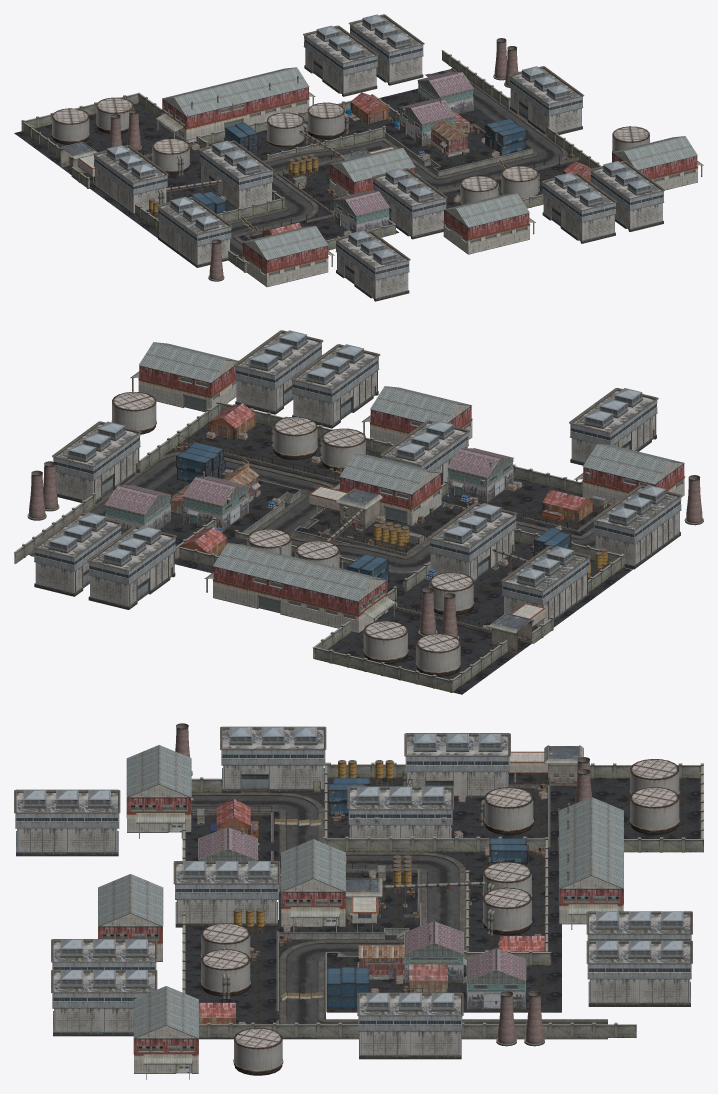
Rendered from Map_v1.gltf.
3 renders of one model, top to bottom at view 1: azimuth 30°, elevation 25°; view 2: azimuth 150°, elevation 25°; view 3: azimuth 270°, elevation 25°, orthographic. The views are drawn at different scales.
Visible parts, largest first — view 1: Hangar_v2_basic, Hangar_v2_basic (1), Hangar_v4 (7), Hangar_v4 (2), Hangar_v4 (8), Hangar_v4 (4), Hangar_v2_basic (3), Hangar_v4 (5), Hangar_v4, Hangar_v4 (6), Hangar_v4 (1), Hangar_v4 (9) (+37 smaller); view 2: Hangar_v2, Hangar_v2_basic (3), Hangar_v4 (2), Hangar_v4 (8), Hangar_v4 (4), Hangar_v2_basic (4), Hangar_v4 (5), Hangar_v4, Hangar_v4 (9), Hangar_v4 (6), Hangar_v4 (3), Hangar_v4 (7) (+44 smaller); view 3: Hangar_v4 (4), Hangar_v4 (7), Hangar_v4 (5), Hangar_v4 (3), Hangar_v2, Hangar_v4 (1), Hangar_v4 (9), Hangar_v4 (6), Hangar_v4, Hangar_v2_basic (4), Hangar_v2_basic (1), Hangar_v3 (+55 smaller).
Boxes of the visible parts, bbox=[...] form: Hangar_v2_basic: bbox=[443, 193, 535, 254]; Hangar_v2_basic (1): bbox=[242, 226, 334, 287]; Hangar_v4 (7): bbox=[334, 230, 410, 301]; Hangar_v4 (2): bbox=[303, 25, 378, 96]; Hangar_v4 (8): bbox=[541, 172, 616, 243]; Hangar_v4 (4): bbox=[508, 66, 584, 134]; Hangar_v2_basic (3): bbox=[156, 82, 247, 143]; Hangar_v4 (5): bbox=[156, 196, 232, 267]; Hangar_v4: bbox=[198, 140, 274, 208]; Hangar_v4 (6): bbox=[93, 145, 168, 214]; Hangar_v4 (1): bbox=[371, 168, 447, 239]; Hangar_v4 (9): bbox=[589, 160, 664, 231]; Hangar_v2: bbox=[309, 453, 441, 528]; Hangar_v2_basic (3): bbox=[285, 560, 396, 633]; Hangar_v4 (2): bbox=[87, 525, 176, 609]; Hangar_v4 (8): bbox=[290, 344, 380, 428]; Hangar_v4 (4): bbox=[52, 421, 141, 503]; Hangar_v2_basic (4): bbox=[130, 342, 238, 412]; Hangar_v4 (5): bbox=[592, 485, 682, 569]; Hangar_v4: bbox=[427, 503, 517, 581]; Hangar_v4 (9): bbox=[233, 330, 323, 414]; Hangar_v4 (6): bbox=[501, 546, 590, 627]; Hangar_v4 (3): bbox=[33, 512, 122, 596]; Hangar_v4 (7): bbox=[569, 388, 658, 465]; Hangar_v4 (4): bbox=[357, 992, 463, 1059]; Hangar_v4 (7): bbox=[14, 789, 120, 856]; Hangar_v4 (5): bbox=[220, 726, 326, 793]; Hangar_v4 (3): bbox=[586, 940, 692, 1006]; Hangar_v2: bbox=[281, 839, 382, 932]; Hangar_v4 (1): bbox=[173, 861, 279, 927]; Hangar_v4 (9): bbox=[51, 969, 157, 1036]; Hangar_v4 (6): bbox=[404, 733, 510, 797]; Hangar_v4: bbox=[347, 786, 453, 838]; Hangar_v2_basic (4): bbox=[133, 986, 198, 1079]; Hangar_v2_basic (1): bbox=[126, 745, 191, 838]; Hangar_v3: bbox=[357, 921, 466, 992].
Size of the model in its own units: 154 by 15.07 by 147.
27 materials, 27 textured.
